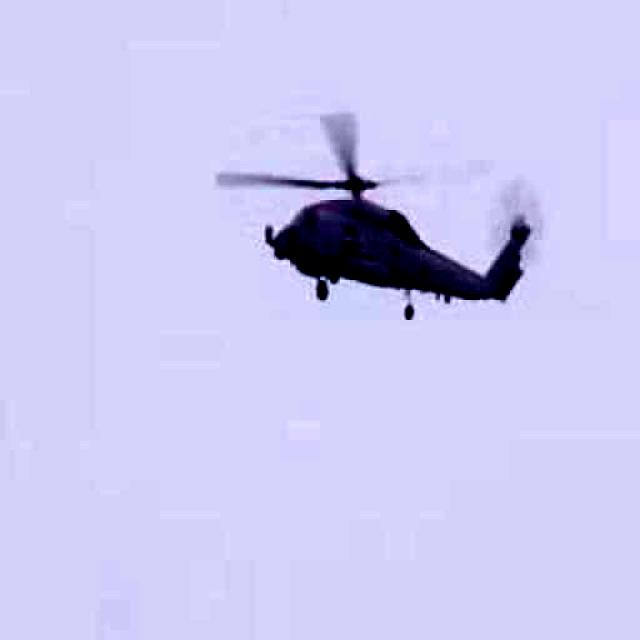drone: (188, 56, 574, 348)
